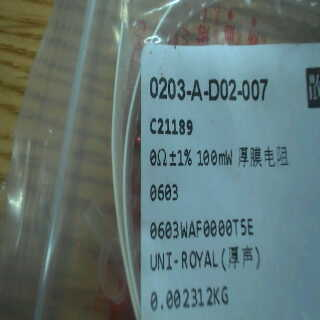0R: (145, 145, 234, 202)
